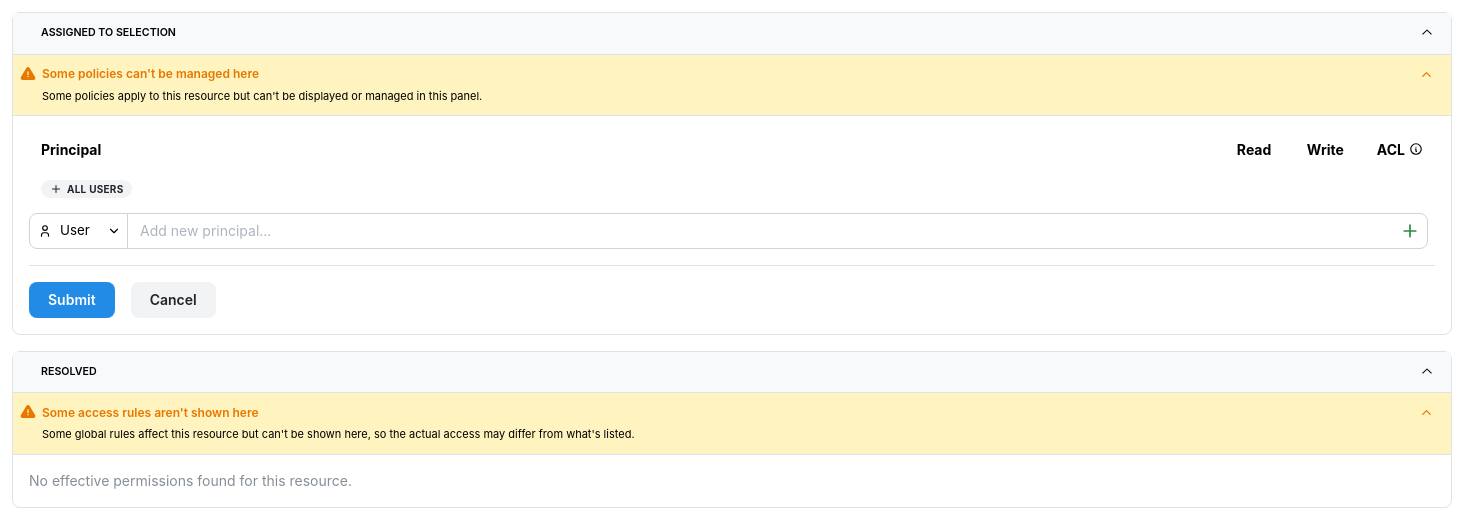
it: PermissionFormTable › toggles each panel's warning description independently without hiding it
Expected: the text "Some policies can't be managed here" is shown, [42,66,259,82]
Expected: the text "Some policies apply to this resource but can't be displayed or managed in this panel." is shown, [42,88,482,102]
Click the button named "Toggle details" in the row of "Some policies can't be managed here".
click(1426, 74)  # box [1419,64,1434,84]
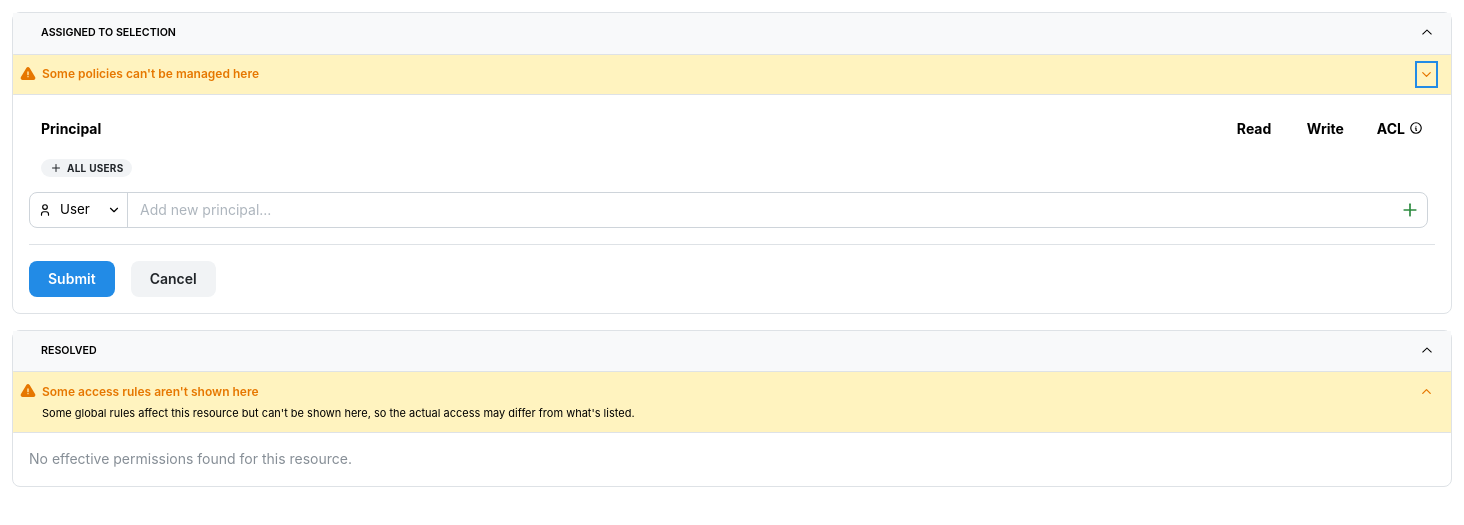
Expected: the text "Some global rules affect this resource but can't be shown here, so the actual access may differ from what's listed." is shown, [42,406,635,420]
Expected: the text "Some policies apply to this resource but can't be displayed or managed in this panel." is gone
Click the button named "Toggle details" in the row of "Some policies can't be managed here".
click(1426, 74)  # box [1419,64,1434,84]
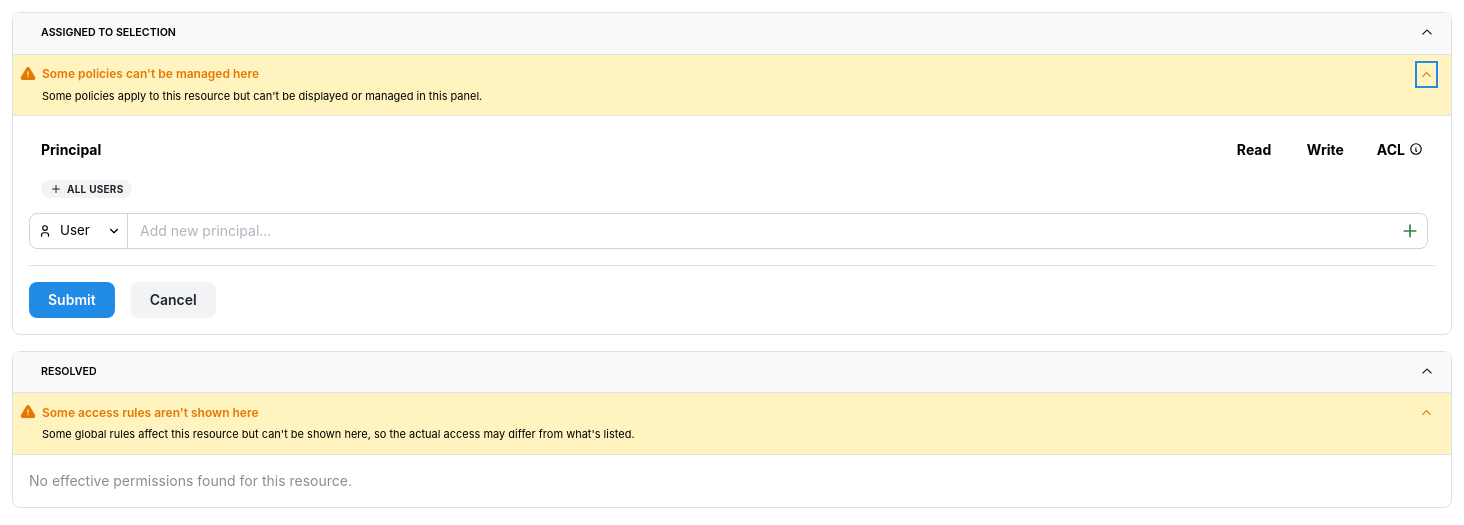
Expected: the text "Some policies apply to this resource but can't be displayed or managed in this panel." is shown, [42,88,482,102]
